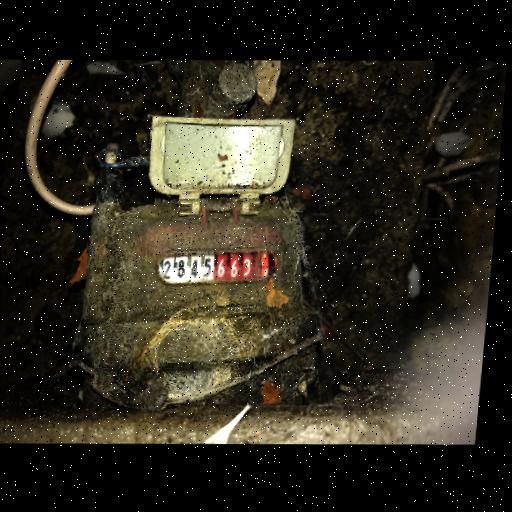2: (160, 253, 177, 284)
3: (241, 250, 259, 280)
4: (186, 252, 205, 283)
5: (199, 251, 218, 283)
6: (214, 251, 232, 282), (227, 251, 245, 281)
8: (172, 252, 191, 284)
border_water_meter_number: (152, 245, 283, 289)
